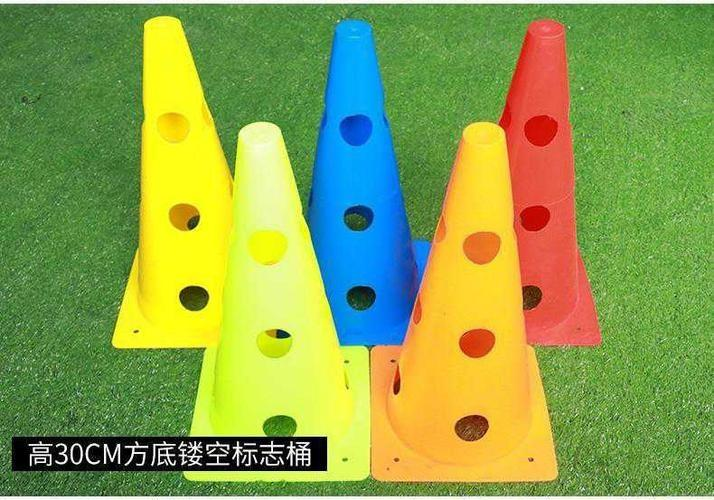cone_barrel: (380, 117, 562, 464), (186, 127, 357, 452), (107, 20, 246, 355), (297, 25, 424, 351), (488, 24, 607, 345)
